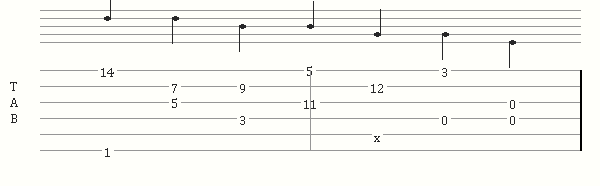0: (441, 112, 452, 125), (509, 112, 520, 125), (509, 96, 520, 109)
1: (104, 144, 115, 157)
11: (303, 96, 321, 109)
12: (370, 80, 388, 93)
14: (100, 64, 118, 77)
3: (239, 112, 250, 125), (441, 64, 452, 77)
5: (171, 95, 182, 109), (306, 63, 317, 77)
7: (171, 80, 182, 93)
9: (239, 80, 250, 93)
x: (374, 129, 384, 139)
